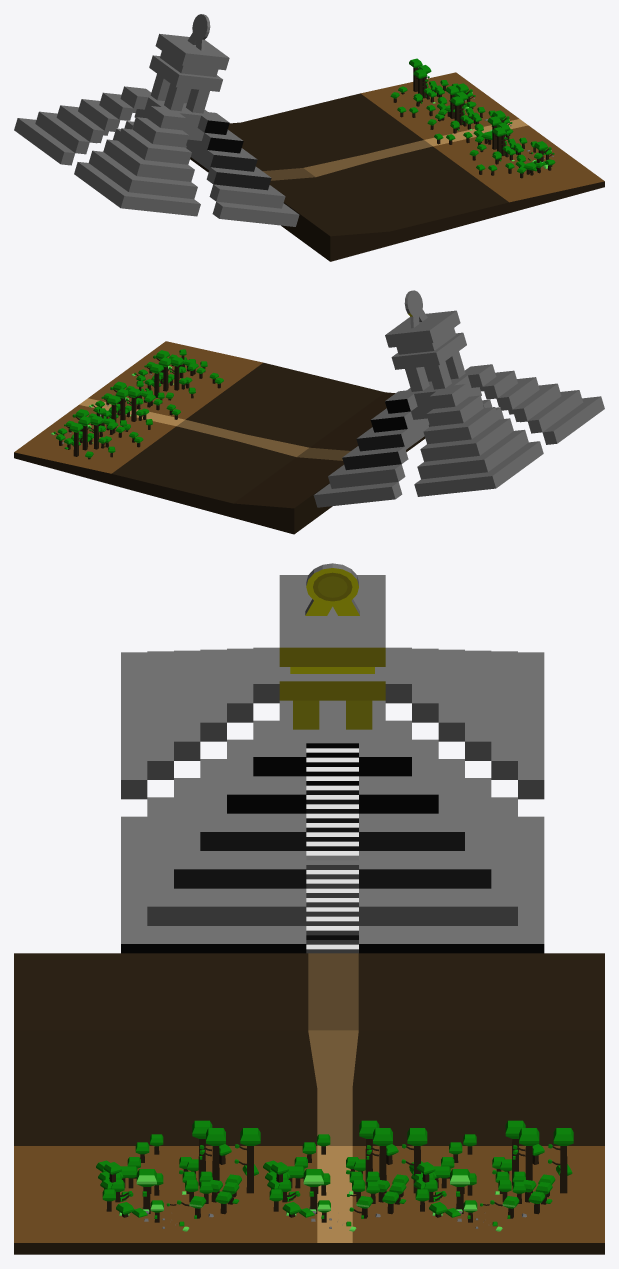
Rendered from Temple.fbx.
The picture shows the model from 3 angles, top to bottom: view 1: azimuth 30°, elevation 25°; view 2: azimuth 150°, elevation 25°; view 3: azimuth 270°, elevation 25°; orthographic projection. The views are drawn at different scales.
Visible parts, largest first — view 1: Terrain, Temple, Jungle.001, Jungle.002, Jungle.003; view 2: Terrain, Temple, Jungle.001, Jungle.003, Jungle.002; view 3: Terrain, Temple, Jungle.001, Jungle.003, Jungle.002.
Part boxes in pixels (x1,y1,x2,y2): Terrain: [190, 72, 604, 261]; Temple: [14, 14, 299, 226]; Jungle.001: [469, 116, 555, 178]; Jungle.002: [427, 85, 513, 145]; Jungle.003: [390, 58, 476, 120]; Terrain: [14, 341, 425, 534]; Temple: [313, 290, 604, 507]; Jungle.001: [131, 349, 223, 400]; Jungle.003: [51, 408, 143, 459]; Jungle.002: [88, 381, 180, 431]; Terrain: [14, 953, 604, 1254]; Temple: [121, 563, 544, 953]; Jungle.001: [96, 1120, 260, 1231]; Jungle.003: [409, 1120, 573, 1231]; Jungle.002: [263, 1120, 427, 1231].
Size of the model in its own units: 11880 by 4952 by 6700.
